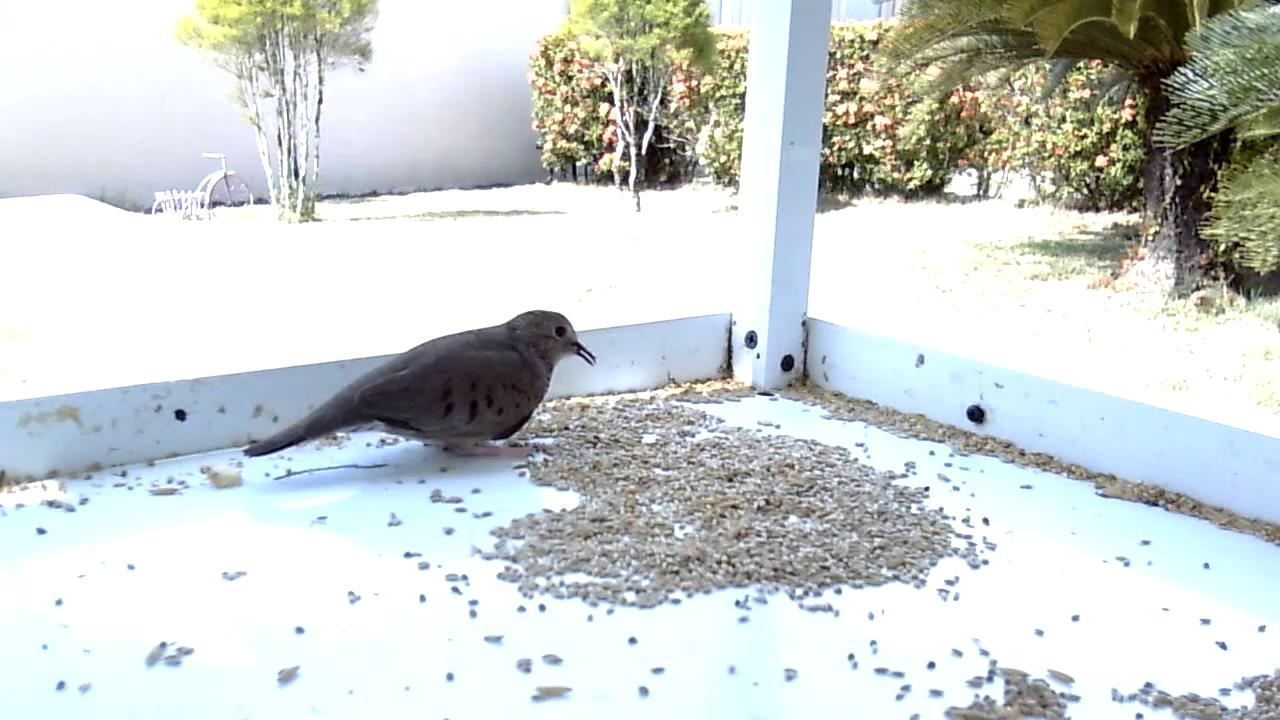rolinha: (242, 308, 602, 462)
